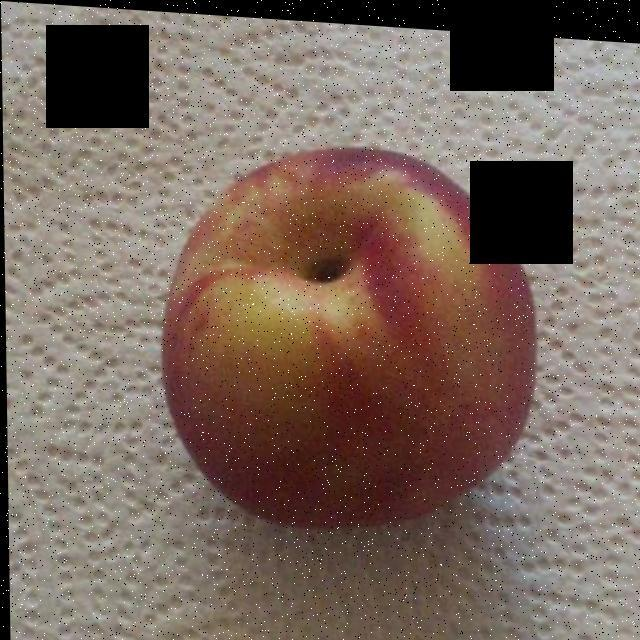nectarine: (164, 153, 534, 518)
